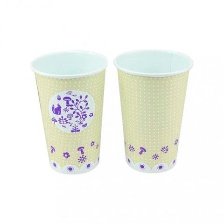paper_cup: (109, 43, 197, 176), (26, 45, 111, 176)
